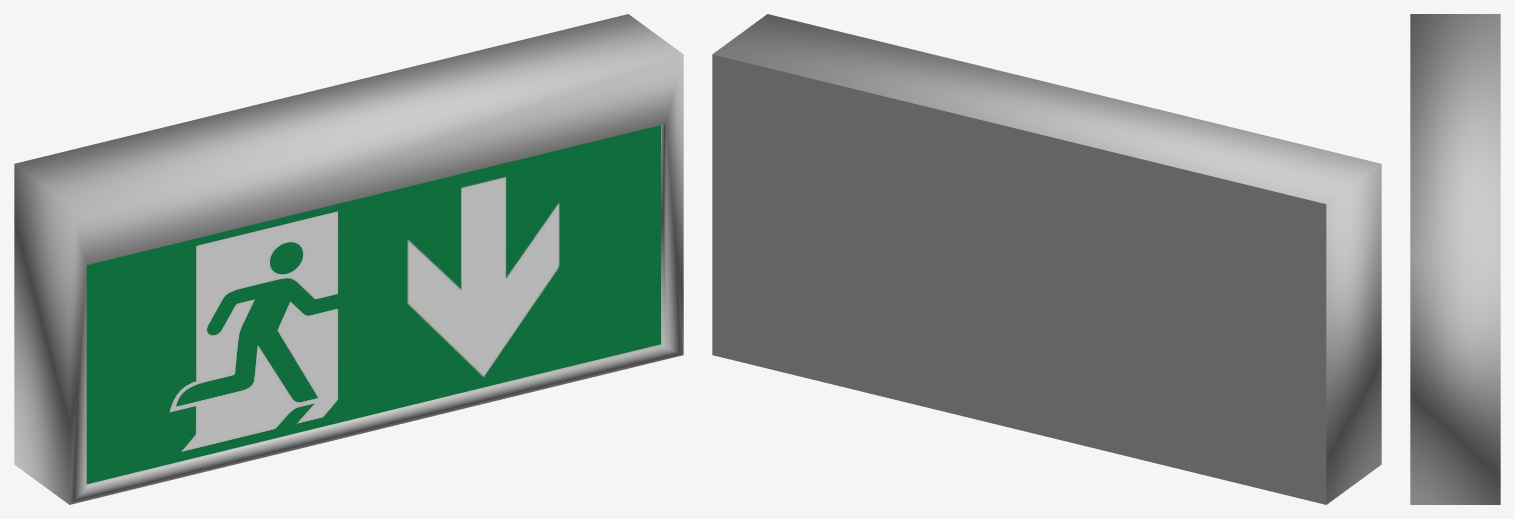
File: exit_down.dae
The picture shows the model from 3 angles, left to right: view 1: azimuth 30°, elevation 25°; view 2: azimuth 150°, elevation 25°; view 3: azimuth 270°, elevation 25°; orthographic projection. The views are drawn at different scales.
Parts seen in each view (by area): view 1: Sign, Exit; view 2: Exit; view 3: Exit.
Boxes of the visible parts, <box> form: Sign: <box>86,125,660,484</box>; Exit: <box>14,14,683,504</box>; Exit: <box>712,14,1381,504</box>; Exit: <box>1410,14,1500,504</box>.
Size of the model in its own units: 0.3292 by 0.0513 by 0.1604.
